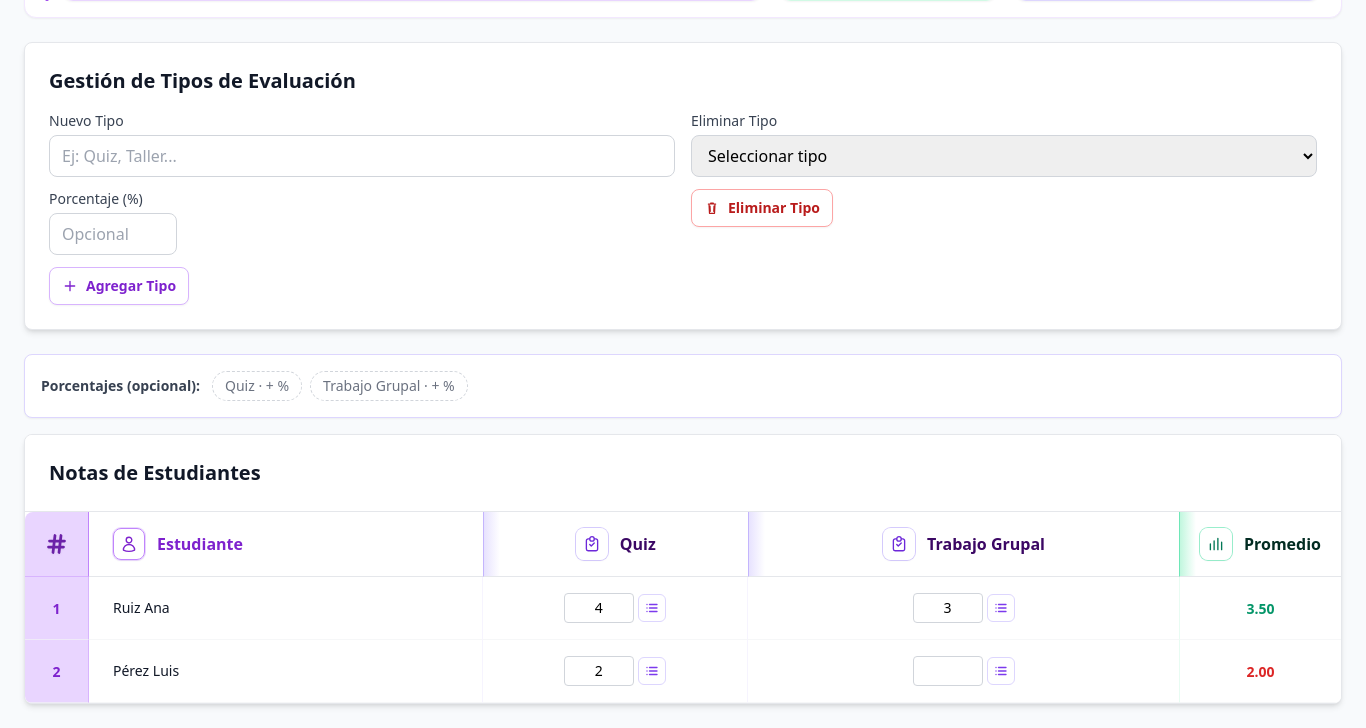
Scenario: flujo de planilla del profesor › rechaza una nota fuera de rango, avisa y restaura el valor anterior sin llamar al backend
This screenshot has width=1366, height=728.
(page scrolled)
Expected: the text "Ruiz Ana" is shown, [113, 598, 170, 617]
Replace the text in the 1st number field with "9" at coordinates (599, 608), box [564, 593, 634, 623]
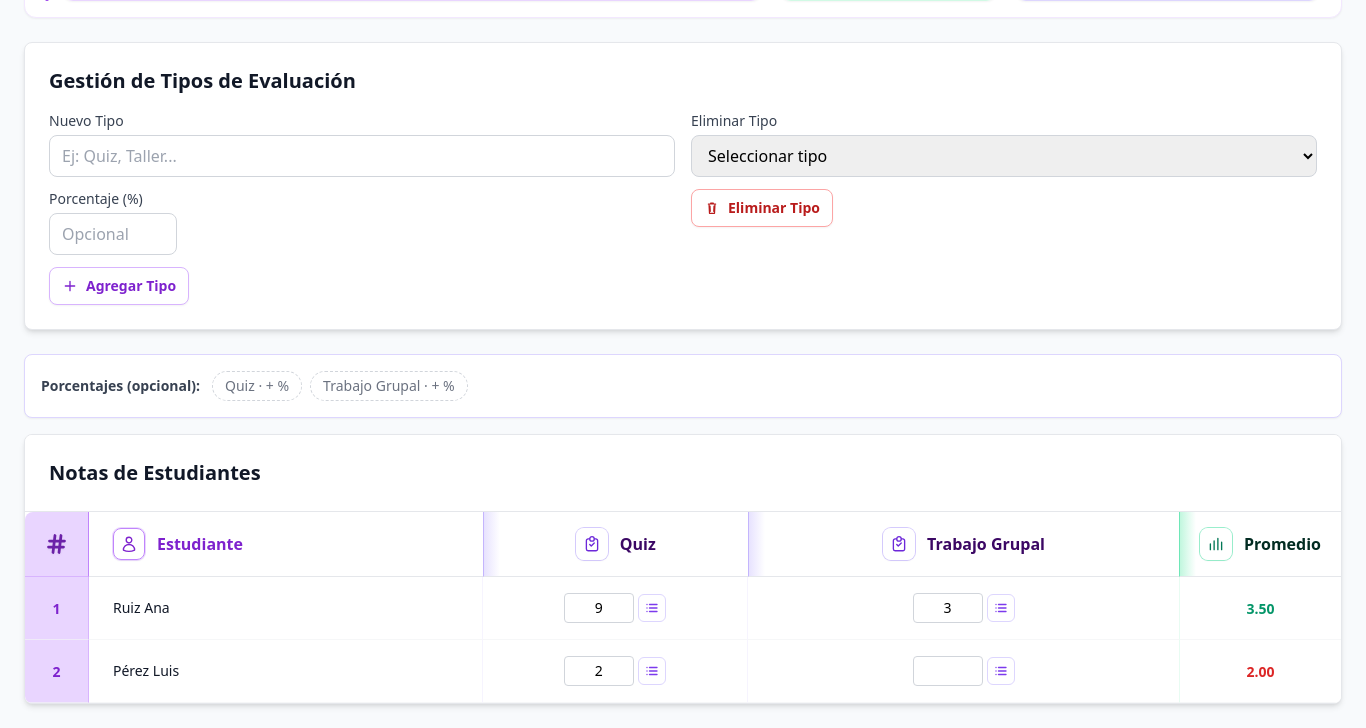
Leave the 1st number field, box [564, 593, 634, 623]
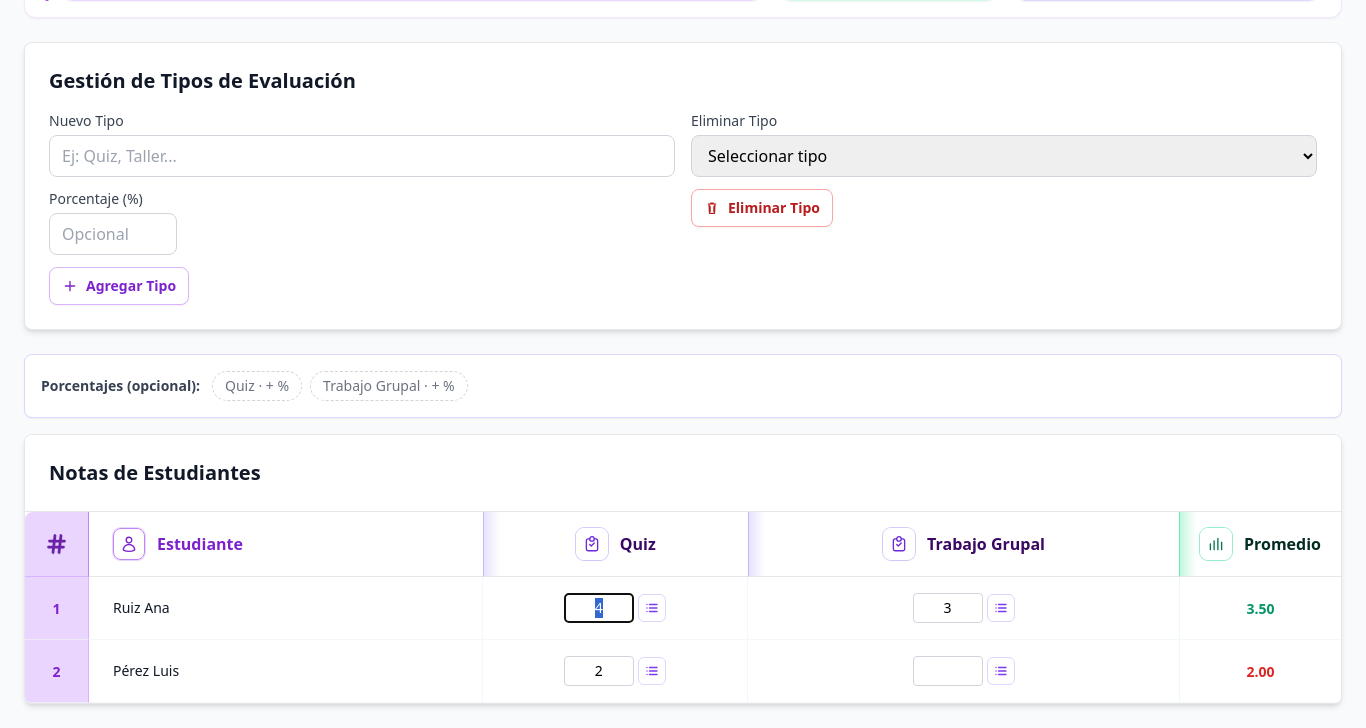
Now the 1st number field holds "4", box [564, 593, 634, 623]
